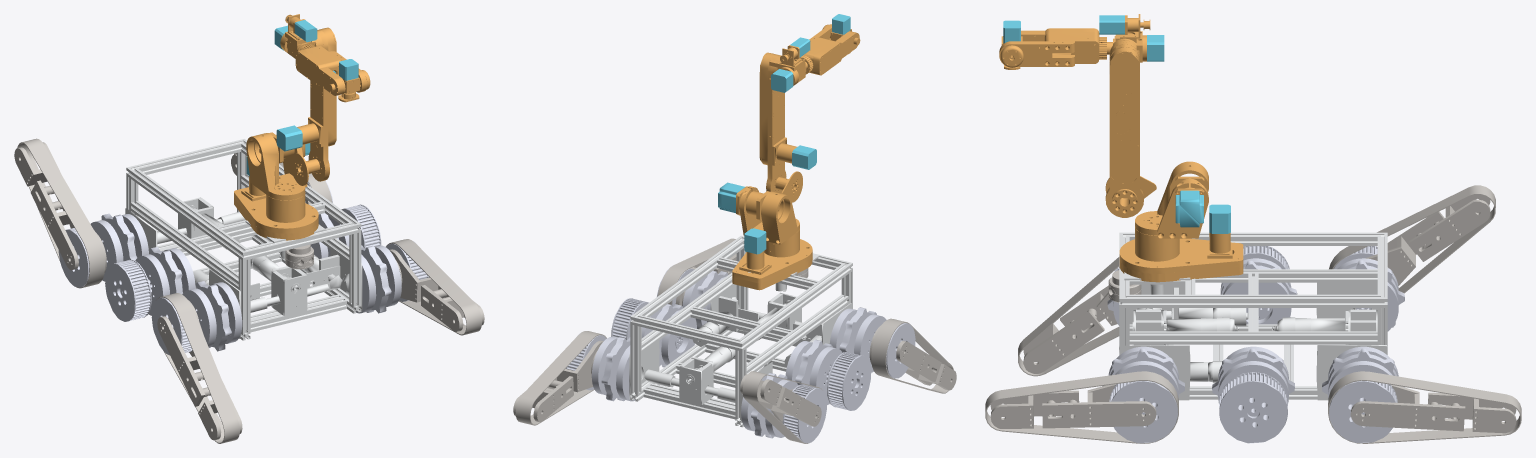
The model's file is search_and_rescue_tracked_robot.glb.
3 views of the same model, side by side, from view 1: azimuth 30°, elevation 25°; view 2: azimuth 150°, elevation 25°; view 3: azimuth 270°, elevation 25° (orthographic). The views are drawn at different scales.
Visible parts, largest first — view 1: base_link, f_back_right, f_front_right, middle_right, f_front_left, front_right, back_right, front_left, link_2, link_1, ar4_base_link, link_4 (+7 smaller); view 2: base_link, middle_right, f_back_left, f_front_right, f_back_right, front_right, link_2, link_1, back_left, back_right, ar4_base_link, middle_left (+10 smaller); view 3: base_link, f_back_left, f_front_left, f_back_right, middle_left, f_front_right, front_left, back_left, ar4_base_link, link_2_cover, link_4, link_1 (+9 smaller).
Boxes of the visible parts, x1,y1,x2,y2 form: base_link: (125,139,362,340); f_back_right: (14,138,106,288); f_front_right: (156,293,242,443); middle_right: (105,247,195,321); f_front_left: (386,239,484,335); front_right: (151,281,242,355); back_right: (58,213,148,287); front_left: (355,241,428,313); link_2: (285,29,329,185); link_1: (246,132,307,200); ar4_base_link: (234,176,318,233); link_4: (280,31,367,95); base_link: (629,235,852,427); middle_right: (785,339,871,410); f_back_left: (513,331,606,425); f_front_right: (869,318,956,393); f_back_right: (740,371,822,443); front_right: (829,307,915,378); link_2: (766,54,802,202); link_1: (736,186,799,244); back_left: (566,333,635,401); back_right: (741,373,826,443); ar4_base_link: (732,229,812,283); middle_left: (611,298,696,367); base_link: (1119,232,1387,400); f_back_left: (1328,371,1521,443); f_front_left: (985,371,1178,443); f_back_right: (1329,185,1495,293); middle_left: (1212,346,1294,443); f_front_right: (1018,257,1119,376); front_left: (1102,346,1184,443); back_left: (1322,346,1404,443); ar4_base_link: (1119,227,1243,273); link_2_cover: (1109,47,1139,184); link_4: (999,28,1146,66); link_1: (1135,161,1208,238).
Size of the model in its own units: 0.6637 by 0.9135 by 1.06.
